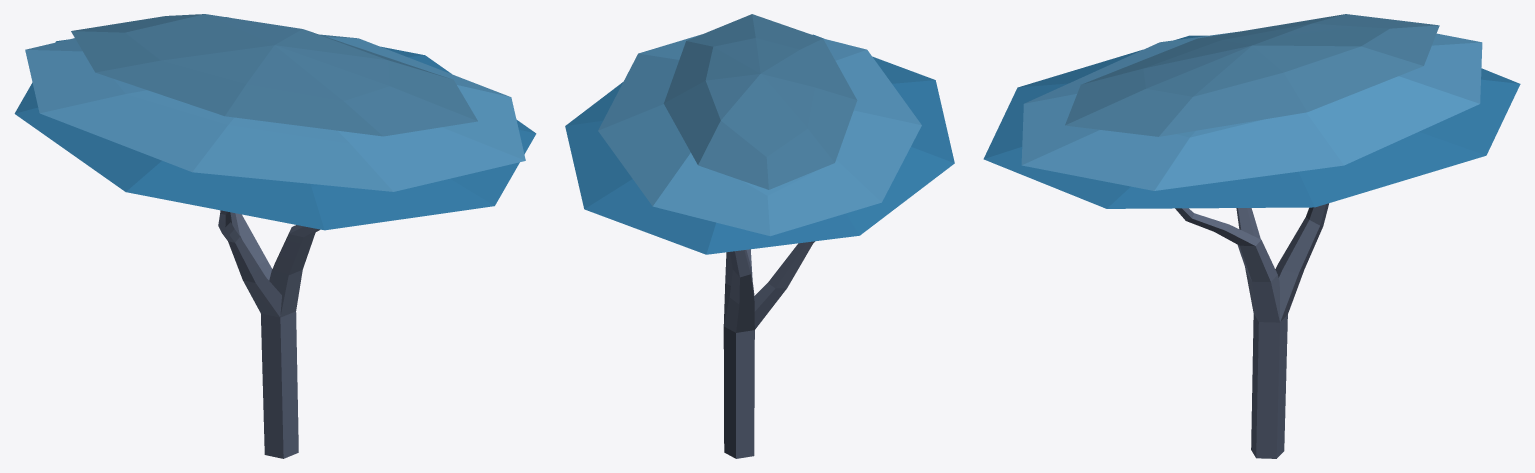
The model's file is pohon2.fbx.
3 views of the same model, side by side, from view 1: azimuth 30°, elevation 25°; view 2: azimuth 150°, elevation 25°; view 3: azimuth 270°, elevation 25° (orthographic). The views are drawn at different scales.
Parts seen in each view (by area): view 1: Tree_3; view 2: Tree_3; view 3: Tree_3.
Boxes of the visible parts, left/top/right/bottom form: Tree_3: left=14, top=14, right=536, bottom=458; Tree_3: left=565, top=14, right=954, bottom=458; Tree_3: left=983, top=14, right=1520, bottom=458.
Bounding box in the file's own units: 8947 × 9571 × 11629.
